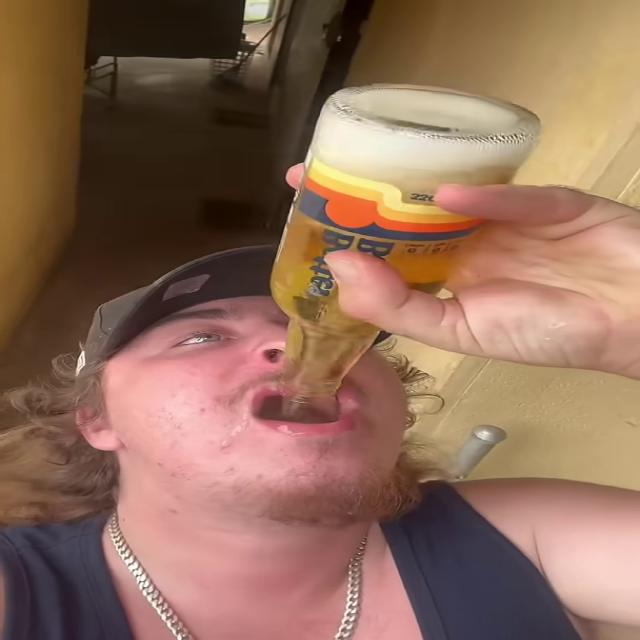Bottle: (268, 82, 543, 404)
Hand: (246, 147, 640, 374)
Mouth: (226, 374, 380, 441)
